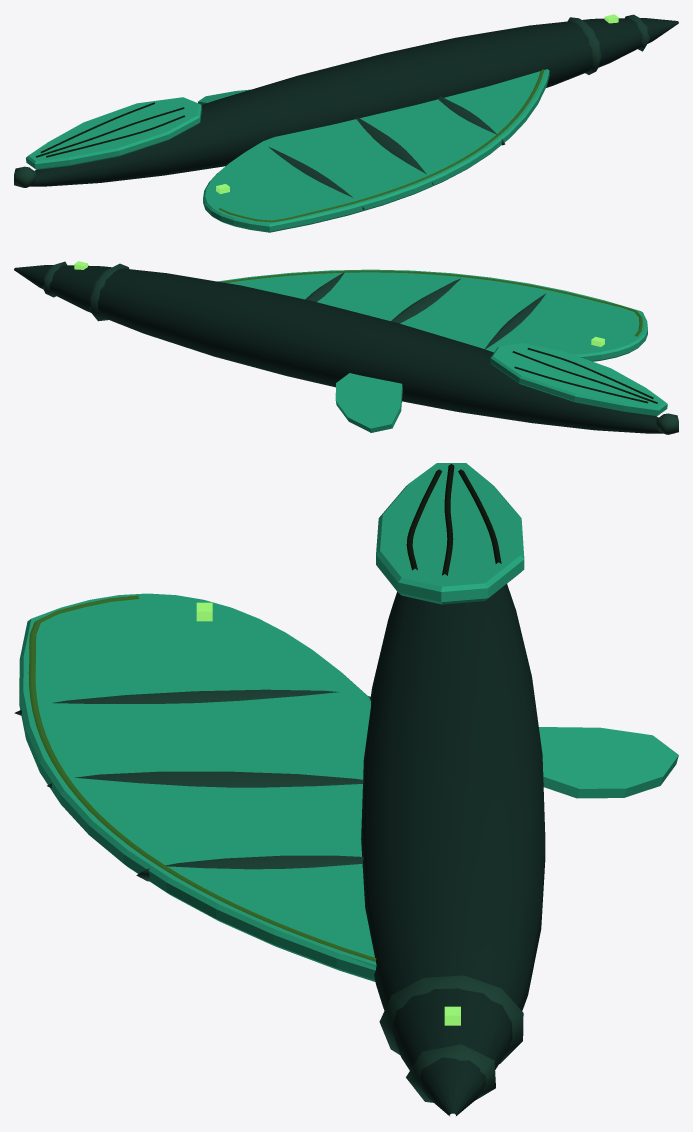
File: glider-pelagia.glb
The picture shows the model from 3 angles, top to bottom: view 1: azimuth 30°, elevation 25°; view 2: azimuth 150°, elevation 25°; view 3: azimuth 270°, elevation 25°; orthographic projection. The views are drawn at different scales.
Visible parts, largest first — view 1: stem, wing_s, tail_fluke, wing_vein_s, tail, wing_ring_s1, wing_ring_s2, stem_ring_1, wing_ring_s0, tail_knuckle; view 2: stem, wing_s, tail_fluke, trim_vane_p, wing_vein_s, tail, wing_ring_s1, stem_ring_1, wing_ring_s2, tail_knuckle, wing_ring_s0, stem_ring_0; view 3: wing_s, stem, tail_fluke, trim_vane_p, wing_ring_s1, wing_vein_s, stem_ring_1, wing_ring_s2, wing_ring_s0, tail, stem_ring_0.
Boxes of the visible parts, <box> form: stem: <box>30,18,678,186</box>; wing_s: <box>203,69,549,232</box>; tail_fluke: <box>26,97,201,169</box>; wing_vein_s: <box>218,69,544,222</box>; tail: <box>36,102,184,157</box>; wing_ring_s1: <box>356,117,433,184</box>; wing_ring_s2: <box>268,146,364,209</box>; stem_ring_1: <box>567,17,601,74</box>; wing_ring_s0: <box>438,96,505,145</box>; tail_knuckle: <box>14,166,36,187</box>; stem: <box>14,265,673,433</box>; wing_s: <box>217,269,647,361</box>; tail_fluke: <box>490,343,667,415</box>; trim_vane_p: <box>335,373,402,432</box>; wing_vein_s: <box>221,270,642,336</box>; tail: <box>512,348,657,403</box>; wing_ring_s1: <box>391,278,460,323</box>; stem_ring_1: <box>89,263,129,321</box>; wing_ring_s2: <box>485,293,546,349</box>; tail_knuckle: <box>656,413,678,434</box>; wing_ring_s0: <box>305,272,344,302</box>; stem_ring_0: <box>42,261,66,297</box>; wing_s: <box>19,593,376,981</box>; stem: <box>361,584,545,1116</box>; tail_fluke: <box>376,463,524,604</box>; trim_vane_p: <box>539,727,678,798</box>; wing_ring_s1: <box>47,771,363,788</box>; wing_vein_s: <box>28,595,376,961</box>; stem_ring_1: <box>379,975,523,1064</box>; wing_ring_s2: <box>14,689,370,715</box>; wing_ring_s0: <box>136,855,363,881</box>; tail: <box>406,464,501,575</box>; stem_ring_0: <box>406,1044,495,1102</box>.
Bounding box in the file's own units: 55 × 5.64 × 24.65.
